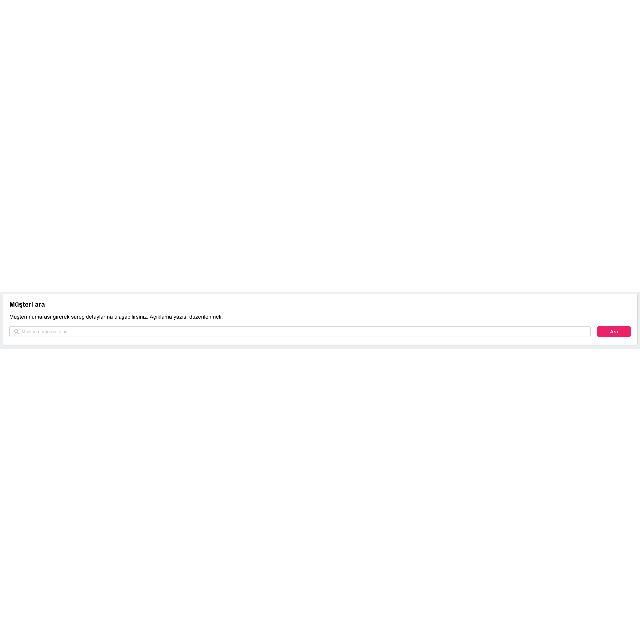QLabel: (8, 314, 224, 320), (7, 300, 45, 308), (608, 328, 620, 336)
VBtn: (596, 326, 632, 338)
VCard: (2, 294, 638, 346)
VTextField: (9, 326, 592, 338)
